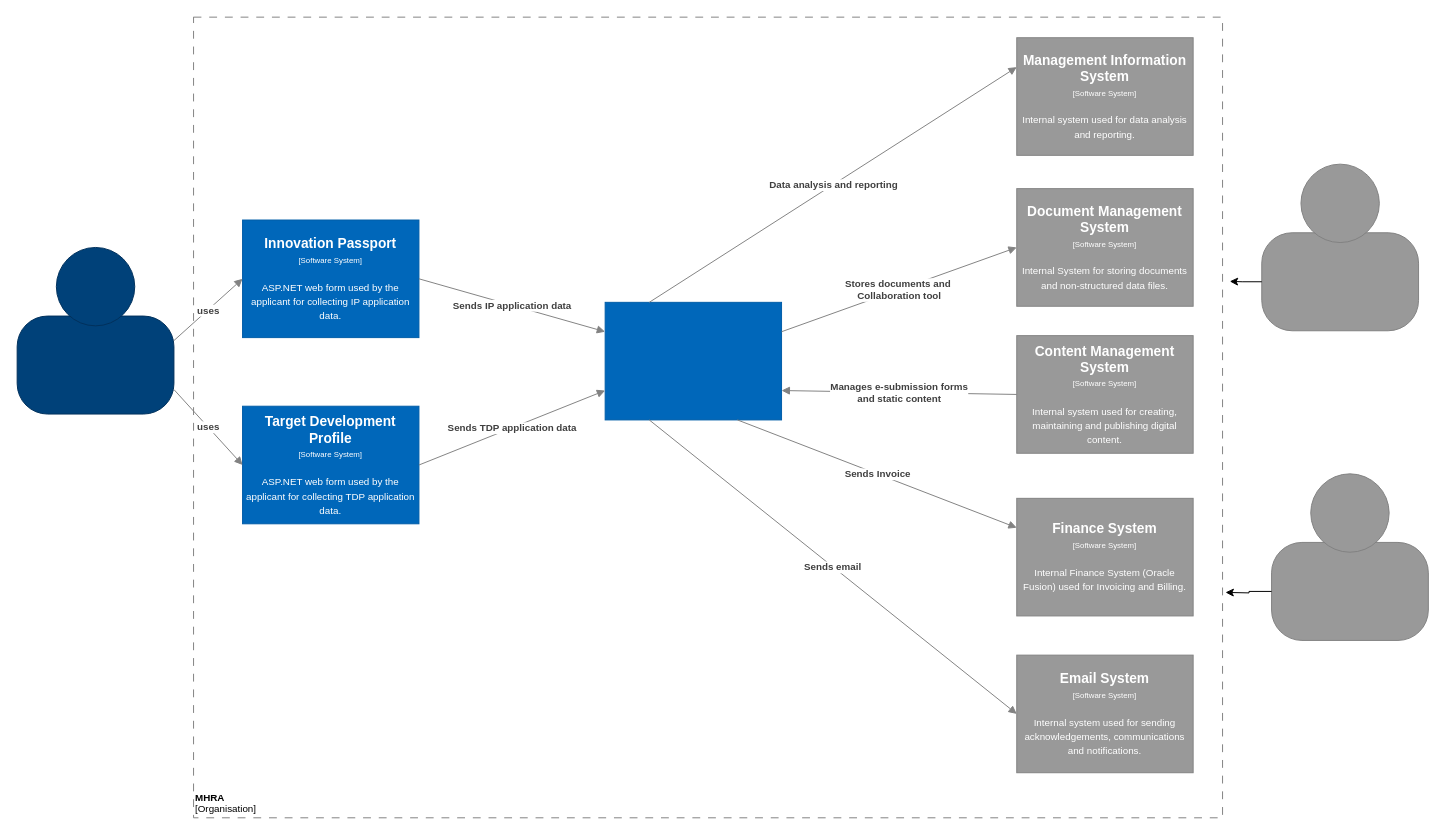
The diagram is 1446 pixels wide and 835 high, and some of its shapes have lost their labels. The centre of each missing label's shape, as x and y in pixels:
"ILAP Back Office Team [Person] Description" goes at (x=1340, y=281).
"Innovative Licensing and Application Pathway [Software System] Description" goes at (x=693, y=360).
"Partners (NICE, SMC ..) [Person] Description" goes at (x=1349, y=590).
"Product Developer [Person] Person applying for an IP or TDP" goes at (x=95, y=364).
